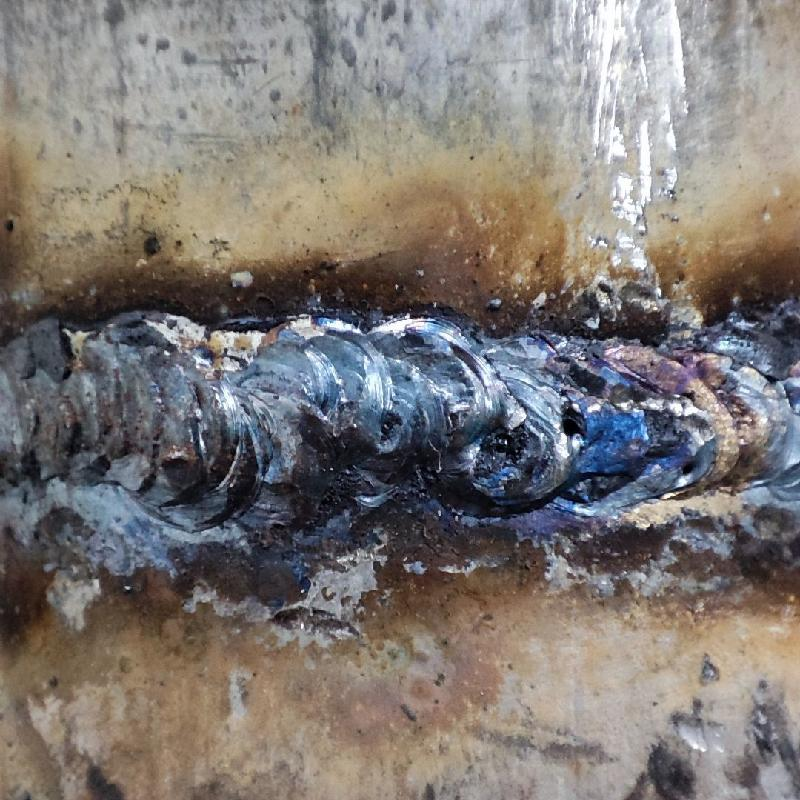Surface_pores: (472, 419, 536, 470), (552, 395, 603, 453), (671, 446, 715, 491)
good: (0, 304, 799, 513)
